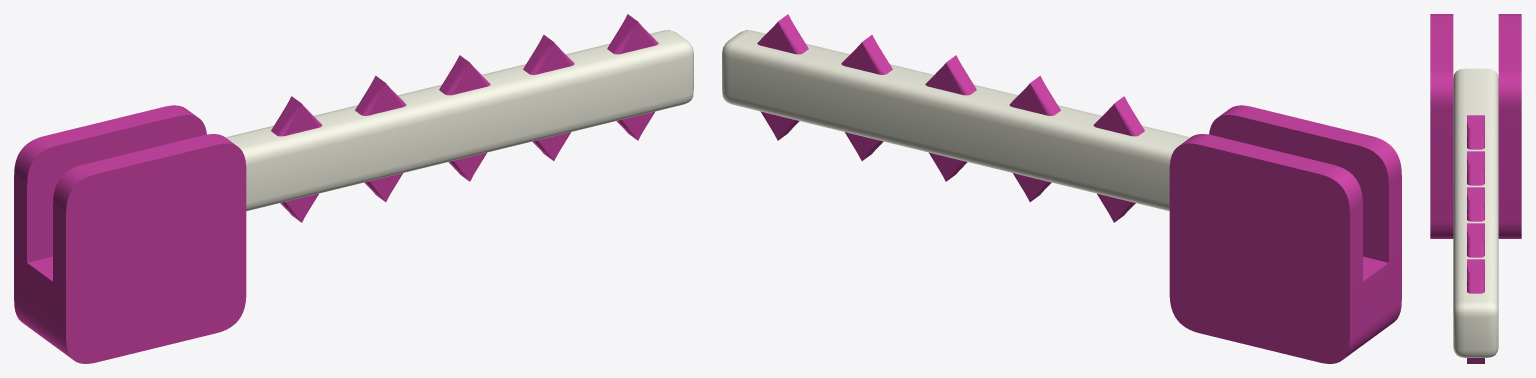
Rendered from Barrier.fbx.
3 renders of one model, left to right at view 1: azimuth 30°, elevation 25°; view 2: azimuth 150°, elevation 25°; view 3: azimuth 270°, elevation 25°, orthographic. The views are drawn at different scales.
Visible parts, largest first — view 1: Barrier.001, Thorn; view 2: Barrier.001, Thorn; view 3: Thorn, Barrier.001.
Boxes of the visible parts, x1,y1,x2,y2 form: Barrier.001: (14, 105, 246, 363); Thorn: (225, 14, 693, 222); Barrier.001: (1169, 105, 1401, 363); Thorn: (722, 14, 1190, 222); Thorn: (1453, 68, 1498, 363); Barrier.001: (1430, 14, 1521, 238).
Bounding box in the file's own units: 21.5 × 6 × 3.
